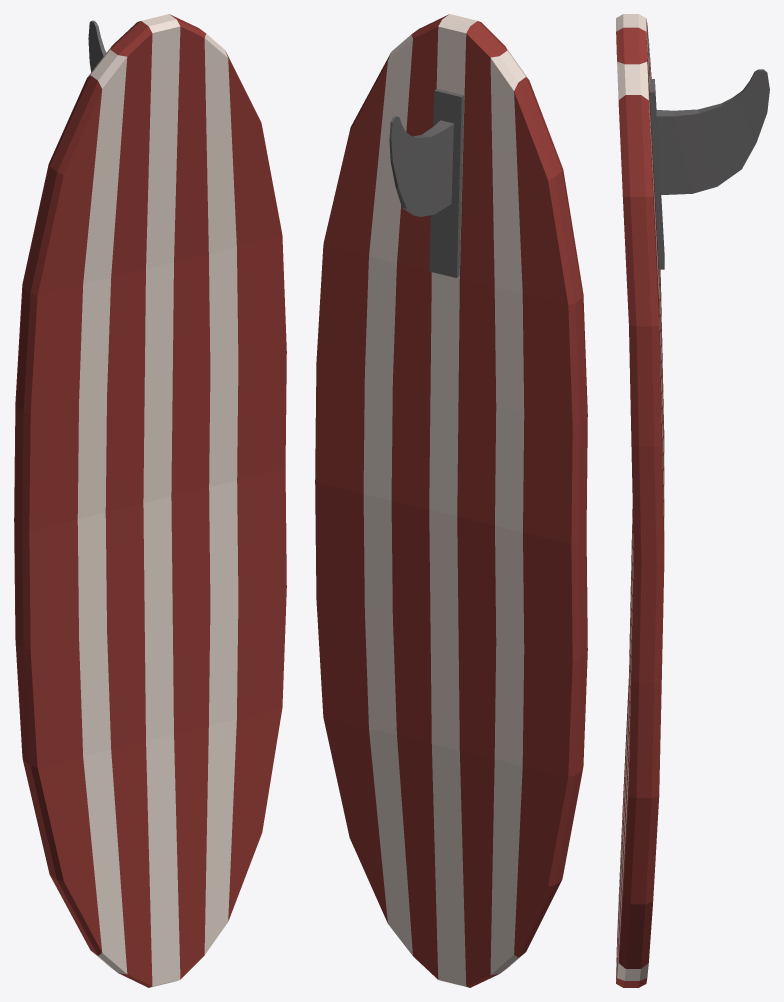
File: Isl_11_Surf_board_2.fbx
3 renders of one model, left to right at view 1: azimuth 30°, elevation 25°; view 2: azimuth 150°, elevation 25°; view 3: azimuth 270°, elevation 25°, orthographic.
Parts seen in each view (by area): view 1: Isl_11_Surf_board_2; view 2: Isl_11_Surf_board_2; view 3: Isl_11_Surf_board_2.
Part boxes in pixels (x1=…): Isl_11_Surf_board_2: x1=14, y1=14, x2=286, y2=987; Isl_11_Surf_board_2: x1=315, y1=14, x2=587, y2=987; Isl_11_Surf_board_2: x1=616, y1=14, x2=769, y2=987.
Bounding box in the file's own units: 74.68 × 37.92 × 261.
Materials: 1 (1 with a texture image).
